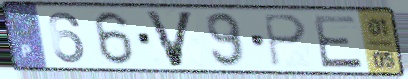6: (92, 9, 135, 67), (47, 10, 88, 65)
9: (203, 11, 248, 69)
E: (310, 13, 366, 70)
P: (260, 12, 310, 69)
V: (142, 9, 198, 69)
